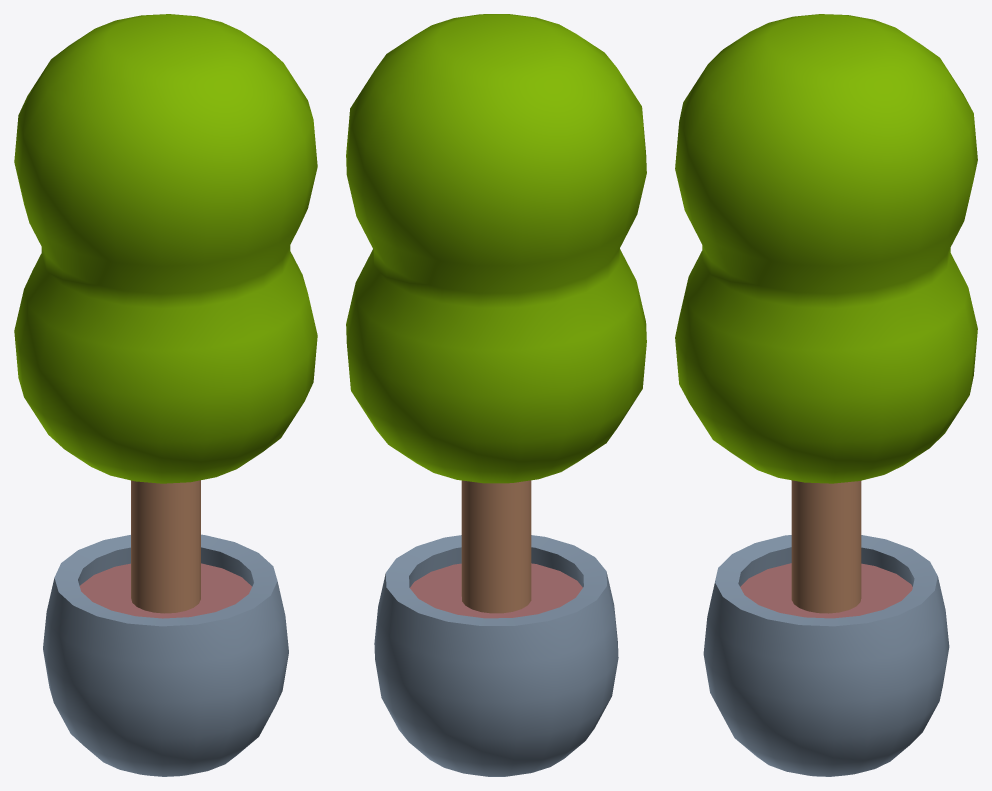
File: plant_2.glb
3 views of the same model, side by side, from view 1: azimuth 30°, elevation 25°; view 2: azimuth 150°, elevation 25°; view 3: azimuth 270°, elevation 25° (orthographic).
Parts seen in each view (by area): view 1: Decoration_Plant2; view 2: Decoration_Plant2; view 3: Decoration_Plant2.
Part boxes in pixels (x1=…): Decoration_Plant2: x1=14, y1=14, x2=317, y2=776; Decoration_Plant2: x1=346, y1=14, x2=646, y2=776; Decoration_Plant2: x1=675, y1=14, x2=977, y2=776.
Bounding box in the file's own units: 0.6965 × 1.82 × 0.6965.
1 material, 1 textured.
